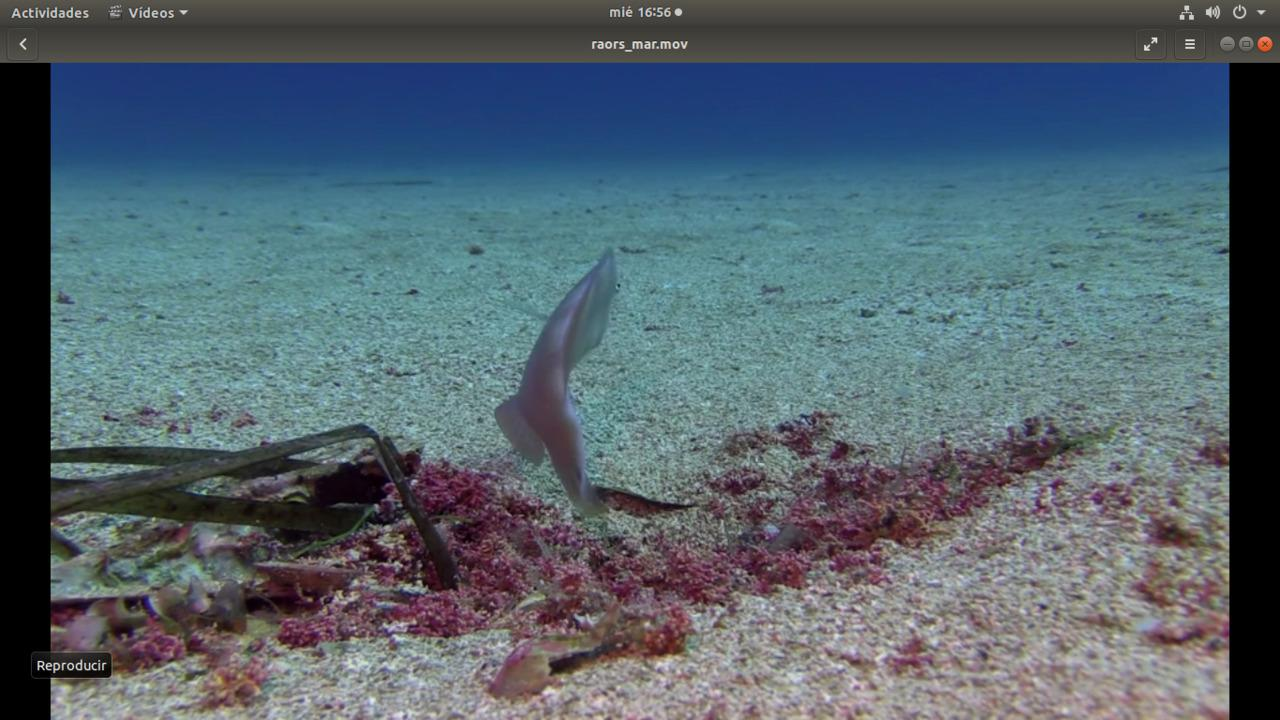raor: (483, 240, 643, 522)
